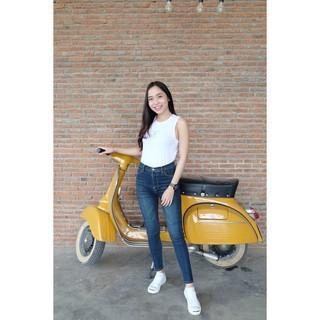pants: (135, 162, 193, 281)
